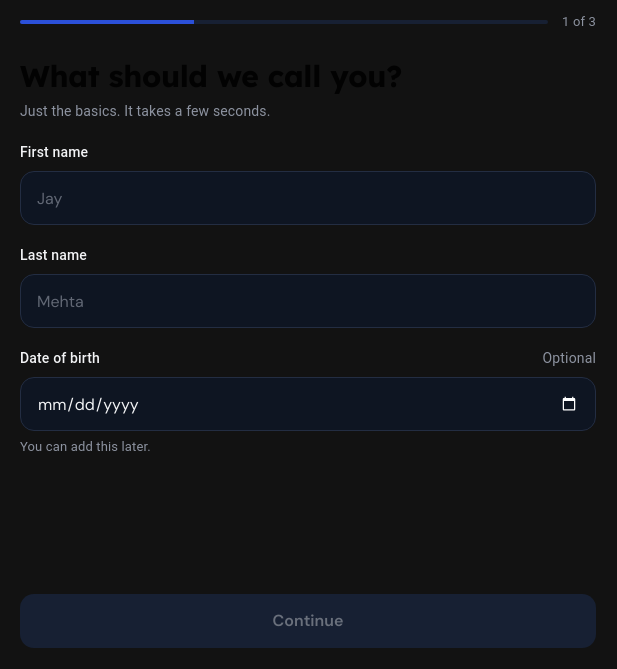
Test: completing onboarding › rejects a birthday that is less than 15 years ago and does not save
Type "Asha" into the field labelled "First name" at (308, 198), box [20, 171, 596, 225]
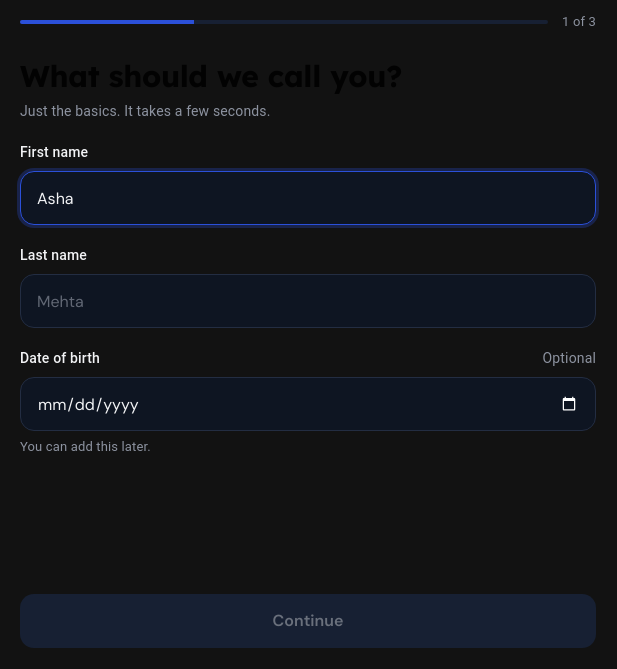
Type "Rao" into the field labelled "Last name" at (308, 301), box [20, 274, 596, 328]
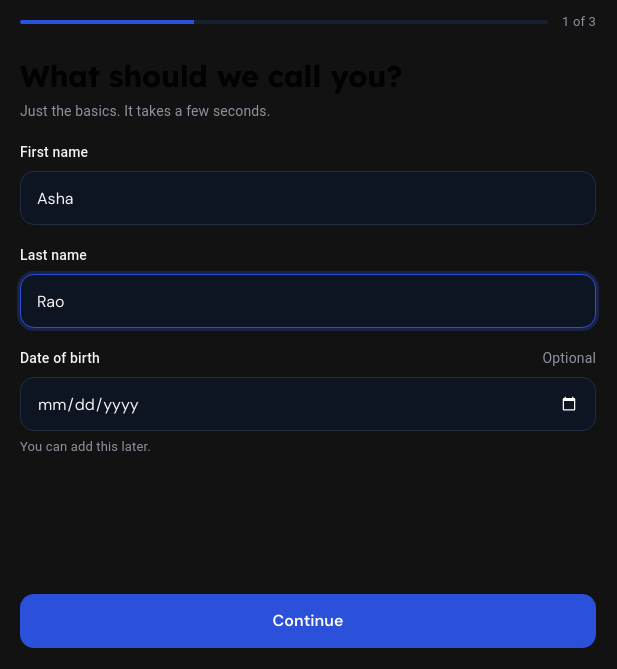
Type "2999-01-01" into the date field labelled "Date of birth Optional" at (308, 404), box [20, 377, 596, 431]
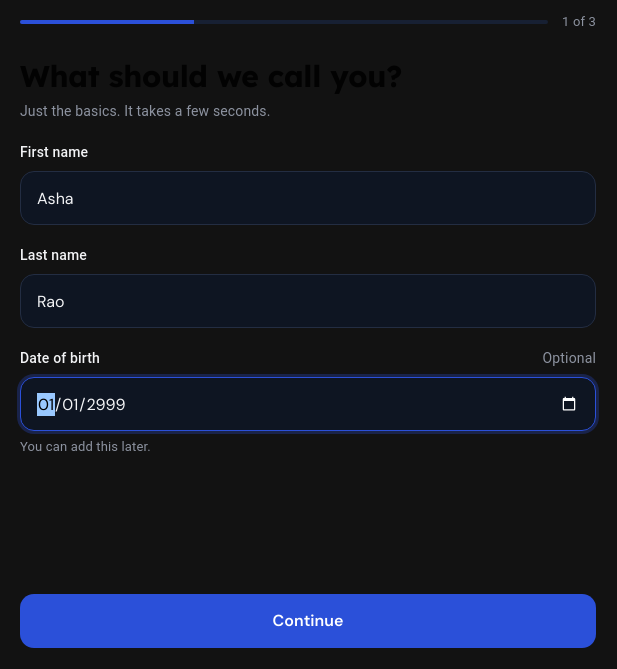
Click the button "Continue" at (308, 621), box [20, 594, 596, 648]
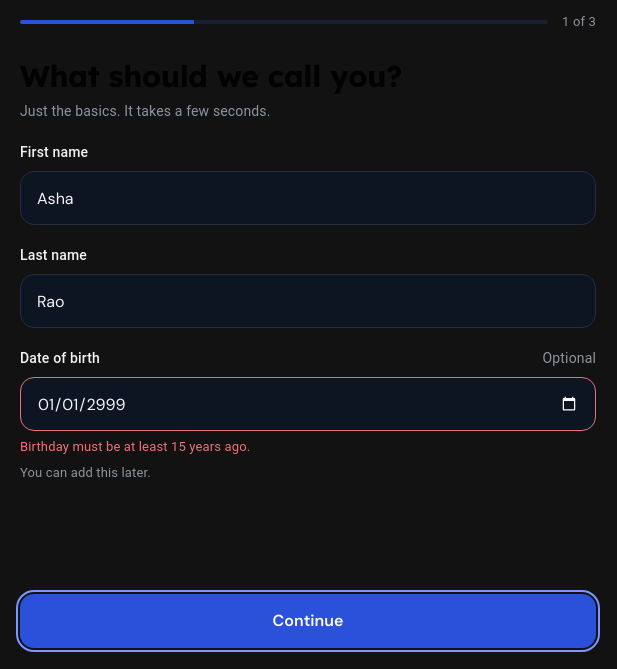
Expected: the text "Birthday must be at least 15 years ago." is shown, [20, 439, 250, 454]
